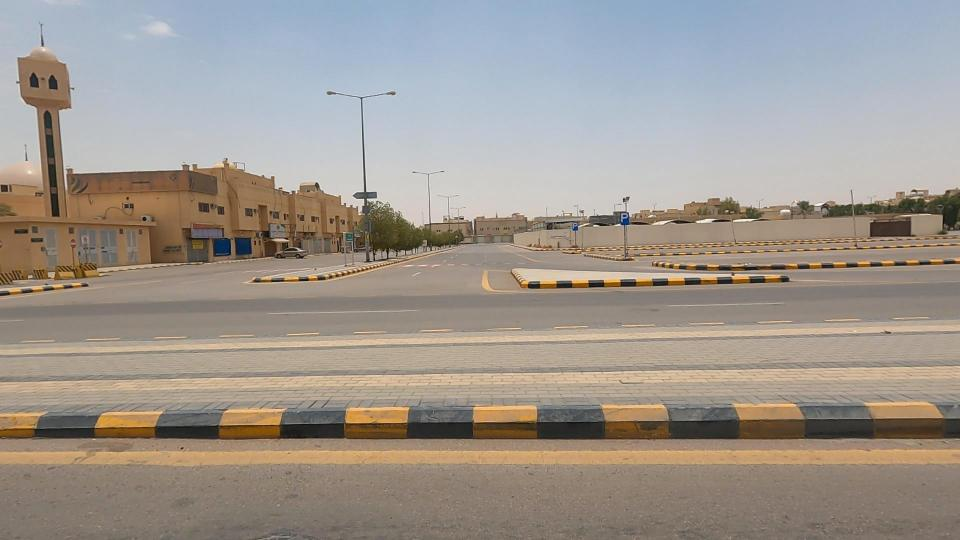BAD_BILLBOARD: (164, 215, 258, 253)
